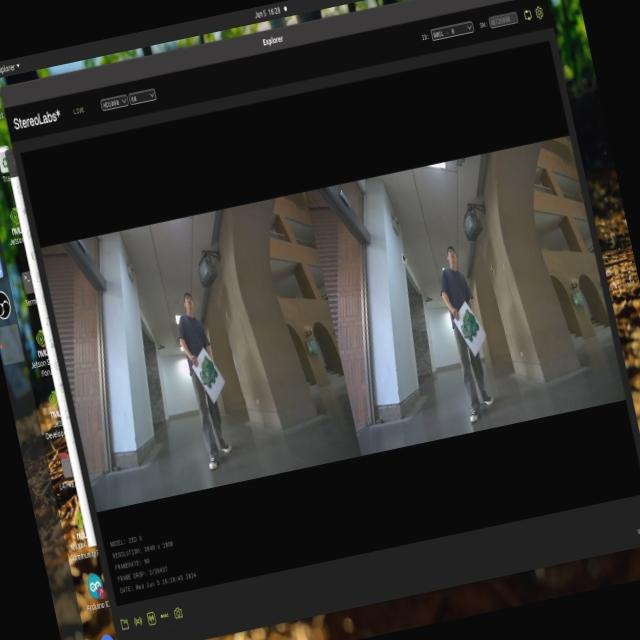green: (196, 346, 232, 399), (454, 302, 490, 350)
